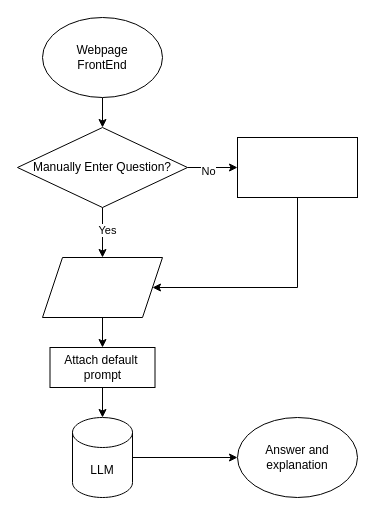
Image size: 375x515. Some labels were removed from this diagram. Each missing label, with the centre of its shape:
MCQ Input: (x=102, y=287)
OCR: (x=297, y=167)
